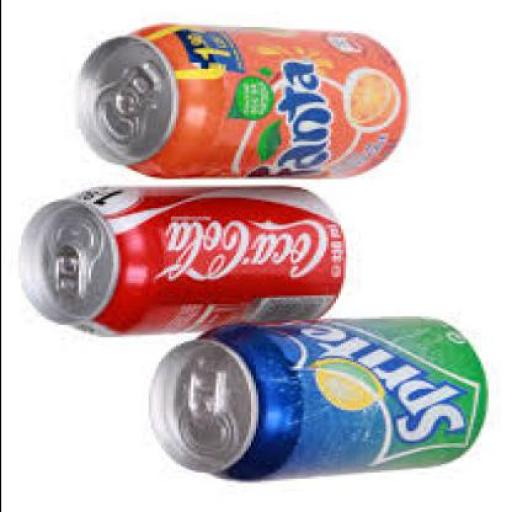metal: (145, 321, 484, 483), (70, 29, 403, 181), (15, 185, 342, 339)
